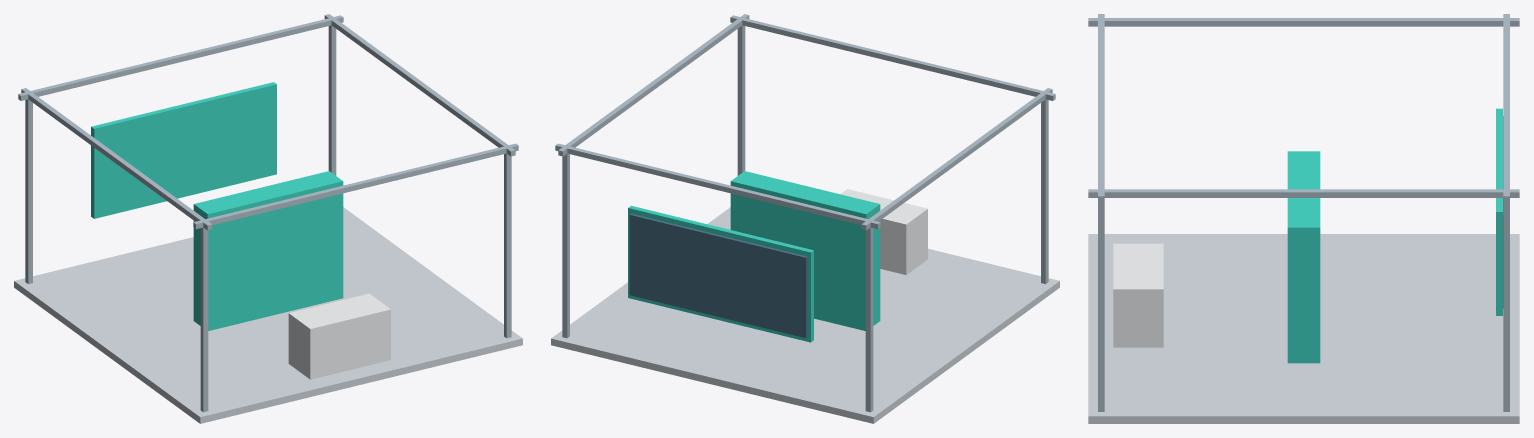
3 views of the same model, side by side, from view 1: azimuth 30°, elevation 25°; view 2: azimuth 150°, elevation 25°; view 3: azimuth 270°, elevation 25° (orthographic). The views are drawn at different scales.
Visible parts, largest first — view 1: Exhibition Booth Concept; view 2: Exhibition Booth Concept; view 3: Exhibition Booth Concept.
Part boxes in pixels (x1=…): Exhibition Booth Concept: x1=14, y1=14, x2=522, y2=423; Exhibition Booth Concept: x1=551, y1=14, x2=1059, y2=423; Exhibition Booth Concept: x1=1088, y1=14, x2=1519, y2=423.
Size of the model in its own units: 6 by 3.49 by 6.
